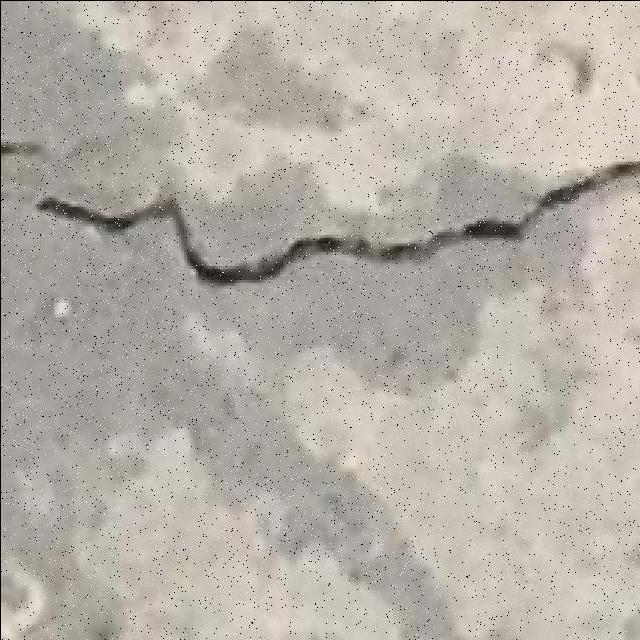Crack: (35, 158, 638, 284)
